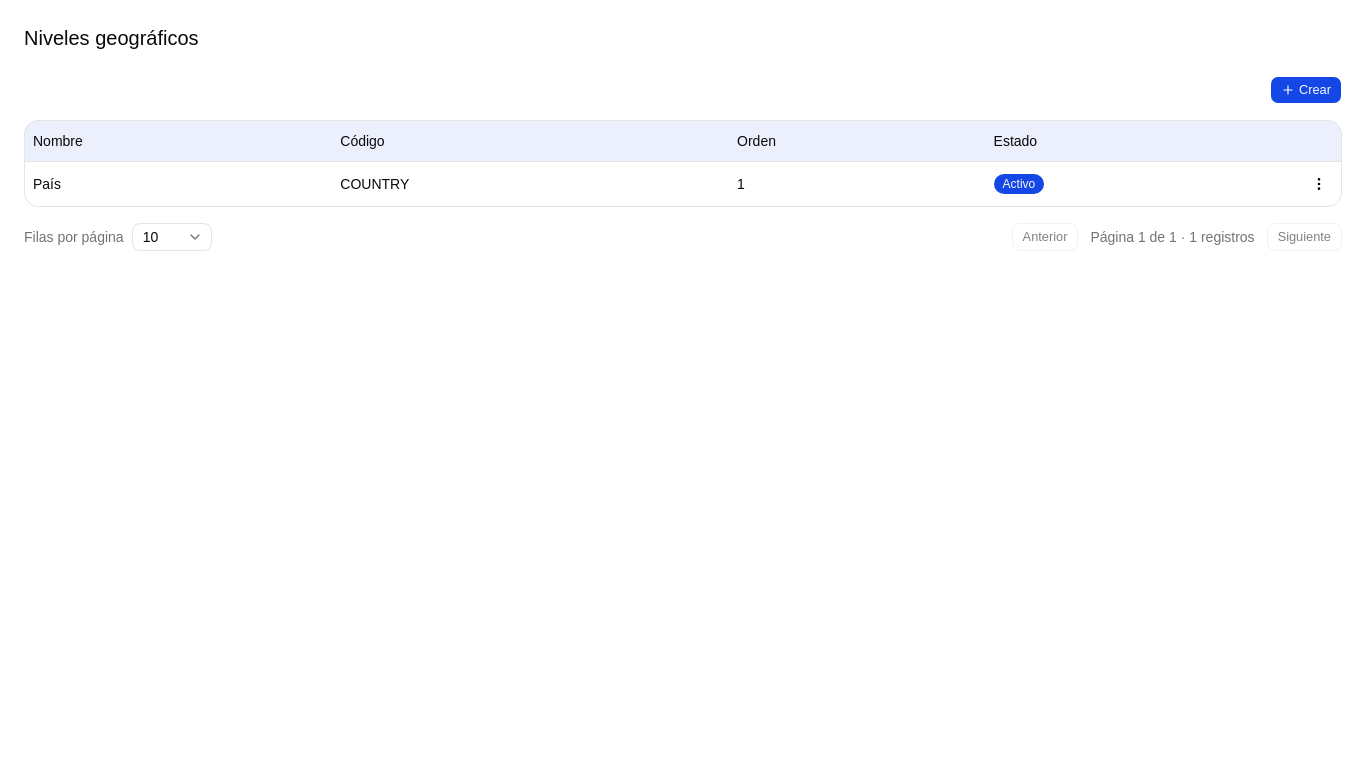
Test case: GeoLevelTypeListPage — crear › crear un nivel lo hace aparecer en la tabla sin recargar
Check: the text "País" is shown, box 25,161 -> 332,206
Click the button "Crear" at (1306, 90), box 1270,76 -> 1342,104
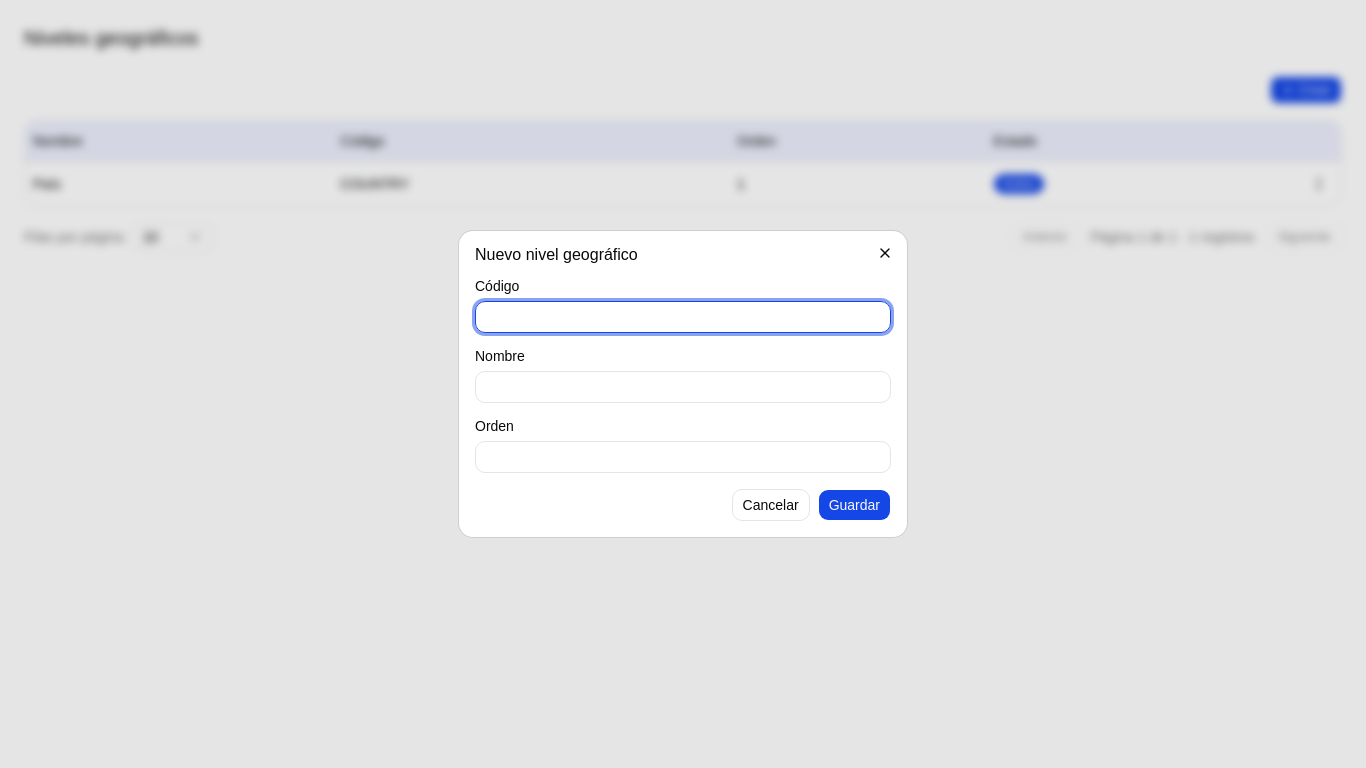
Type "PROVINCE" into the field labelled "Código" at (683, 317), box 475,301 -> 891,333
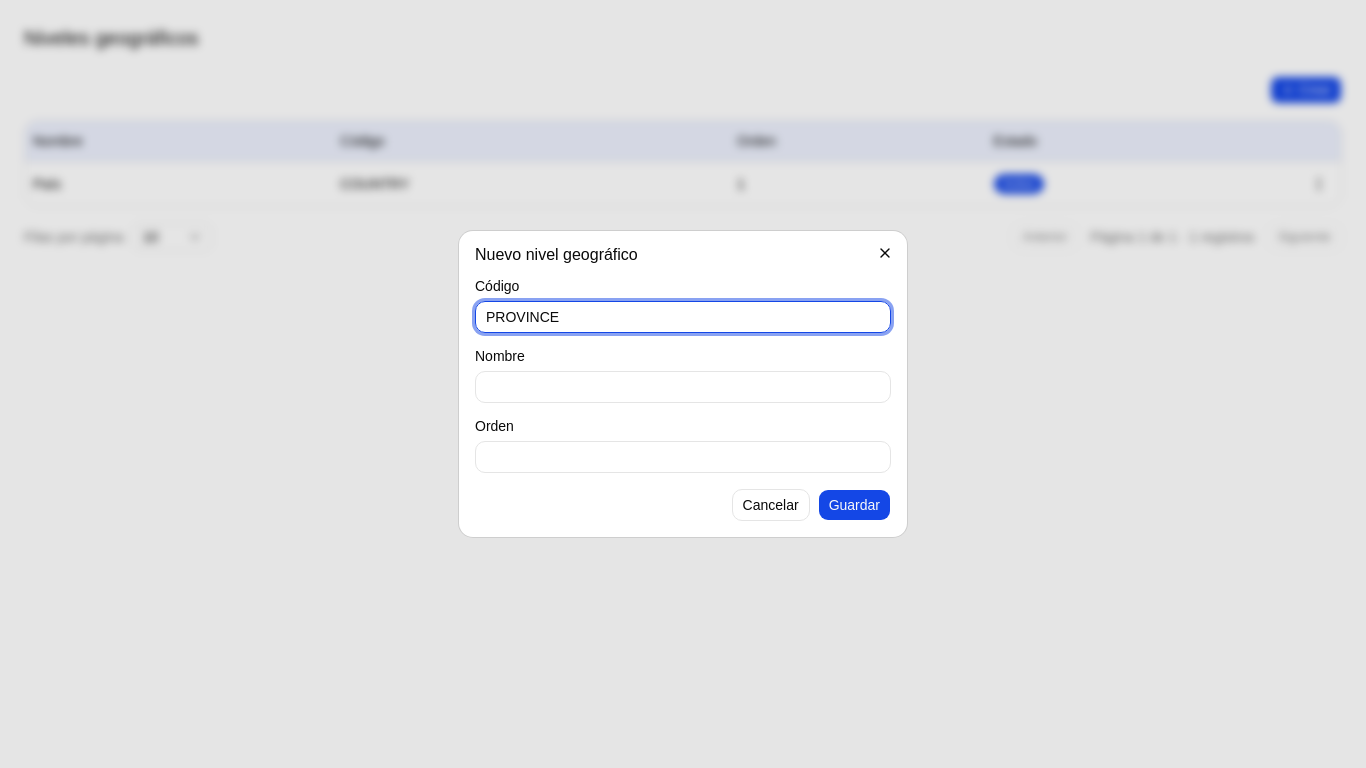
Type "Provincia" into the field labelled "Nombre" at (683, 387), box 475,371 -> 891,403
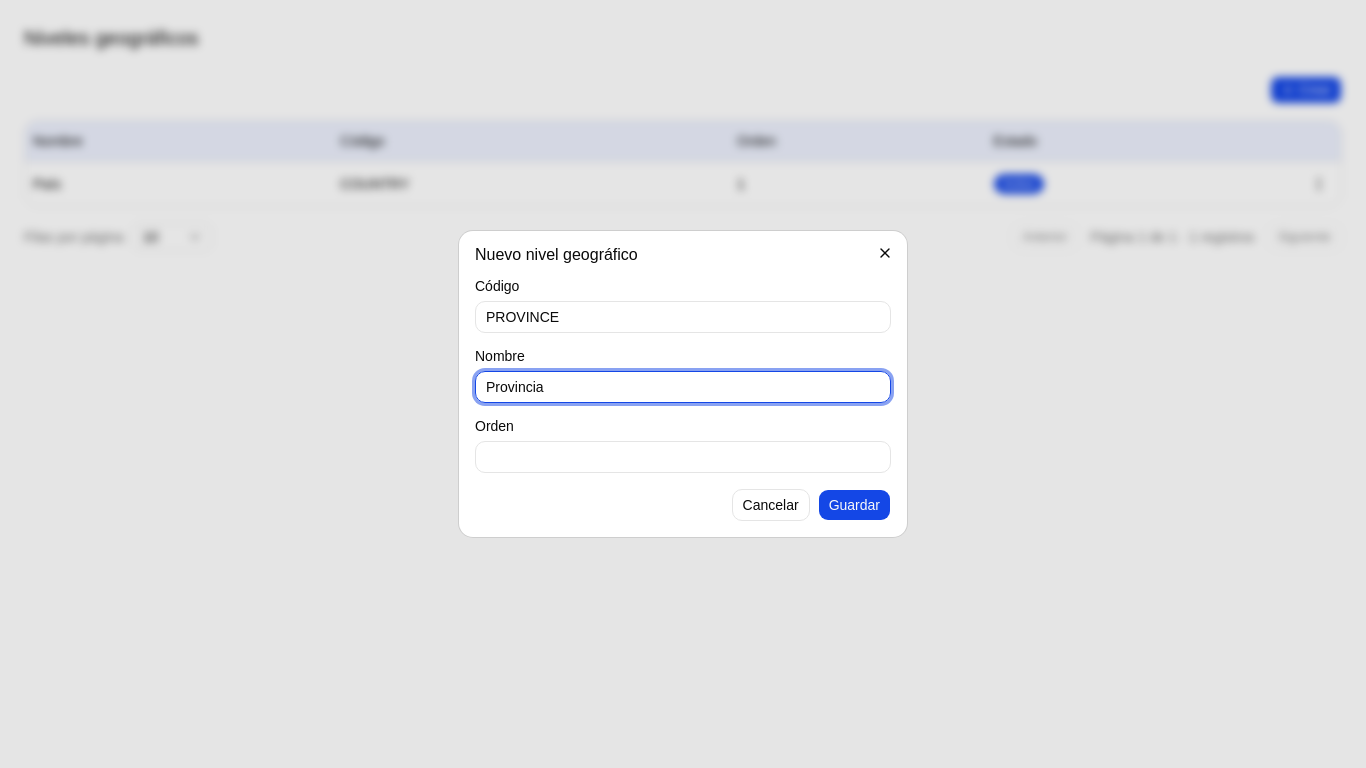
Type "2" into the number field labelled "Orden" at (683, 457), box 475,441 -> 891,473
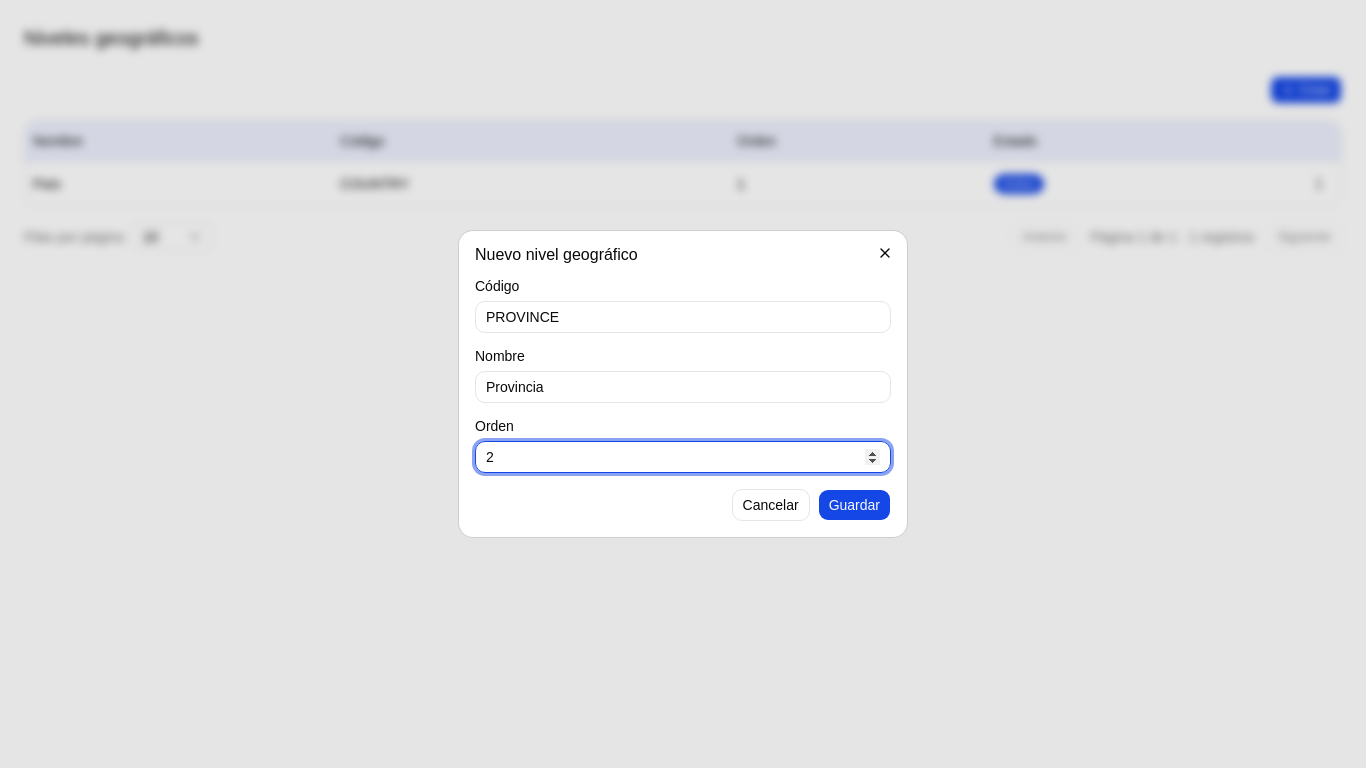
Click the button "Guardar" at (854, 505), box 818,489 -> 891,521
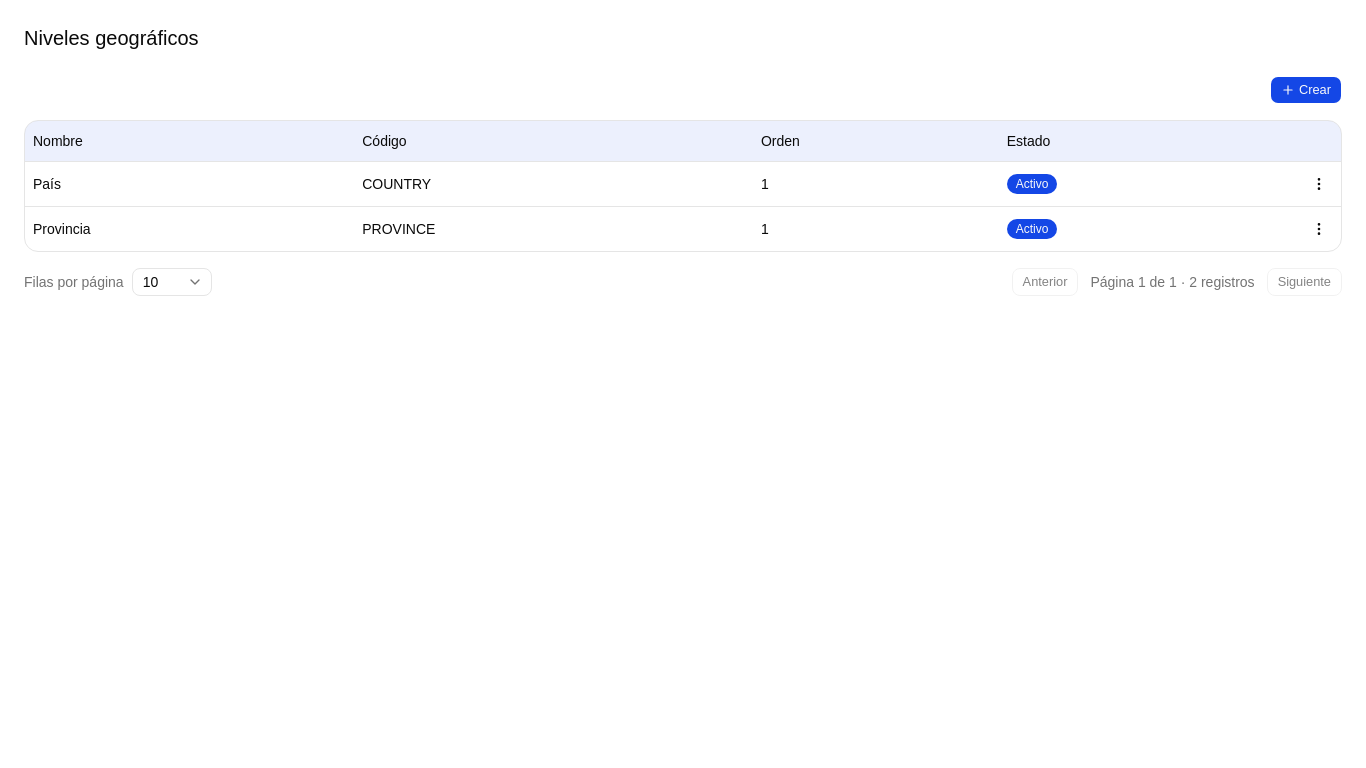
Check: the text "Provincia" is shown, box 25,206 -> 354,250
